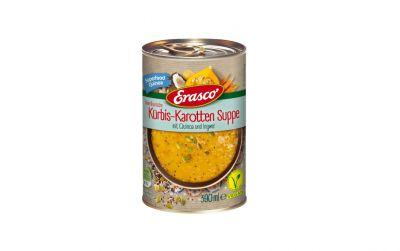metal: (143, 39, 247, 212)
